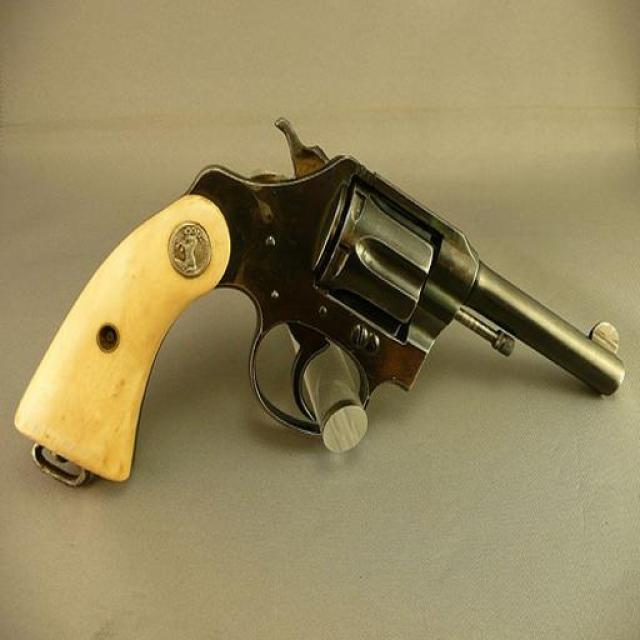pistol: (11, 115, 623, 484)
